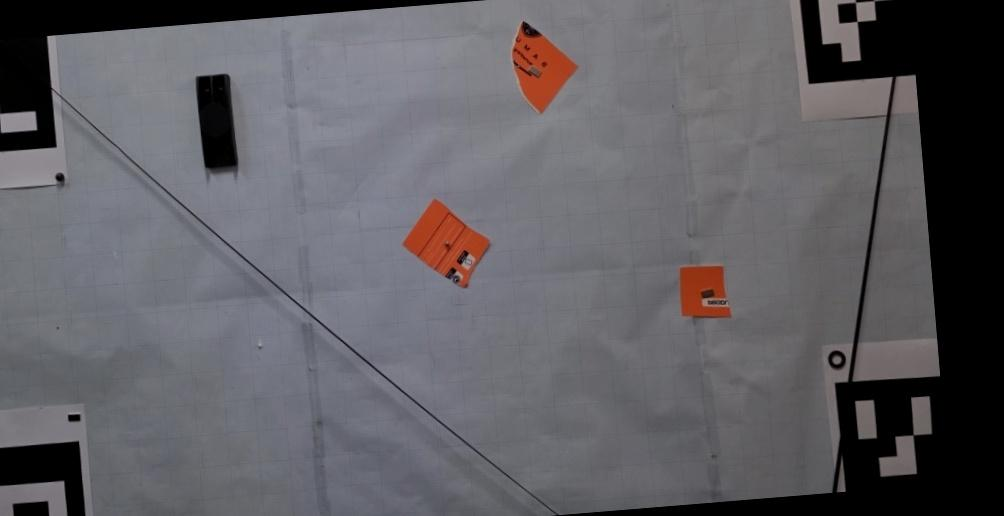obstacle: (402, 197, 492, 291), (512, 21, 577, 115), (195, 74, 238, 171), (679, 266, 732, 319)
